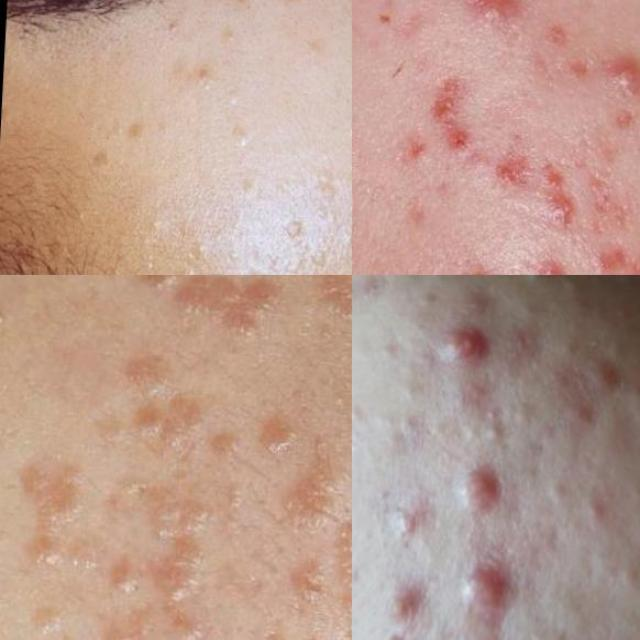8: (463, 436, 527, 515), (441, 547, 518, 603), (373, 494, 430, 549), (426, 315, 477, 367), (456, 0, 524, 27), (460, 248, 502, 275), (444, 630, 505, 640)
9: (586, 46, 640, 92), (382, 556, 413, 616)
blackheads: (430, 57, 481, 159), (479, 128, 536, 178), (590, 156, 624, 224), (545, 145, 569, 219)
dark spot: (144, 0, 196, 38)
